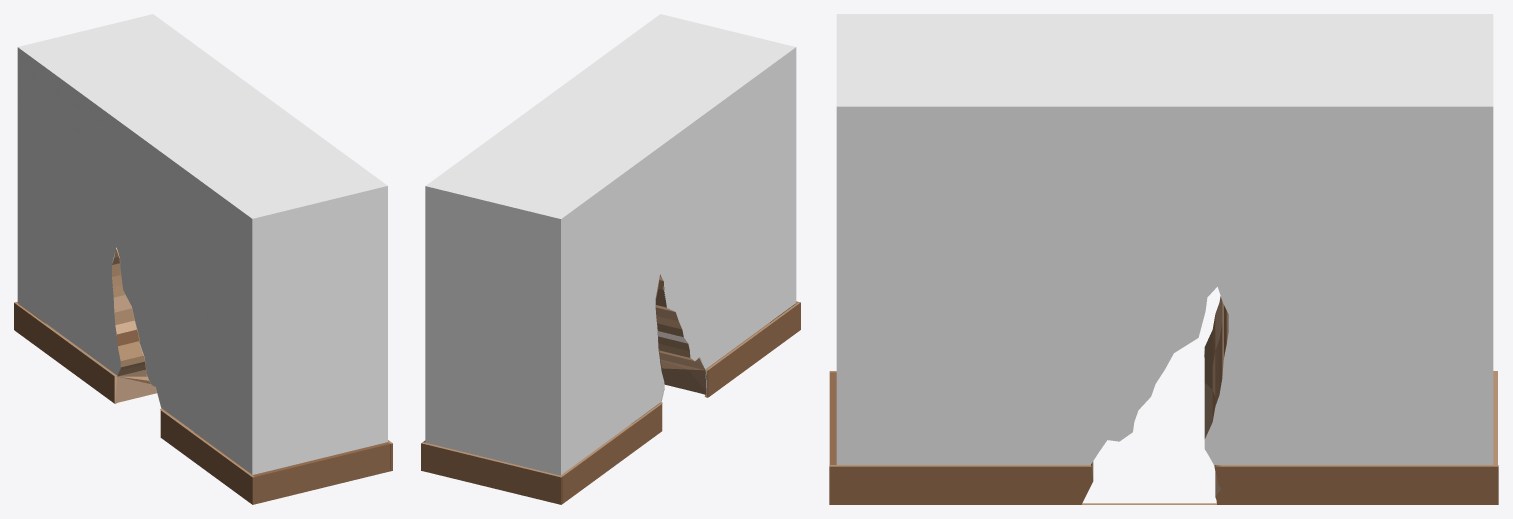
File: PAredRota.fbx
3 renders of one model, left to right at view 1: azimuth 30°, elevation 25°; view 2: azimuth 150°, elevation 25°; view 3: azimuth 270°, elevation 25°, orthographic. The views are drawn at different scales.
Parts seen in each view (by area): view 1: Cube; view 2: Cube; view 3: Cube.
Boxes of the visible parts, bbox=[...] form: Cube: bbox=[14, 14, 392, 504]; Cube: bbox=[421, 14, 800, 504]; Cube: bbox=[829, 14, 1498, 504].
Size of the model in its own units: 207 by 400 by 611.
1 material, 1 textured.
